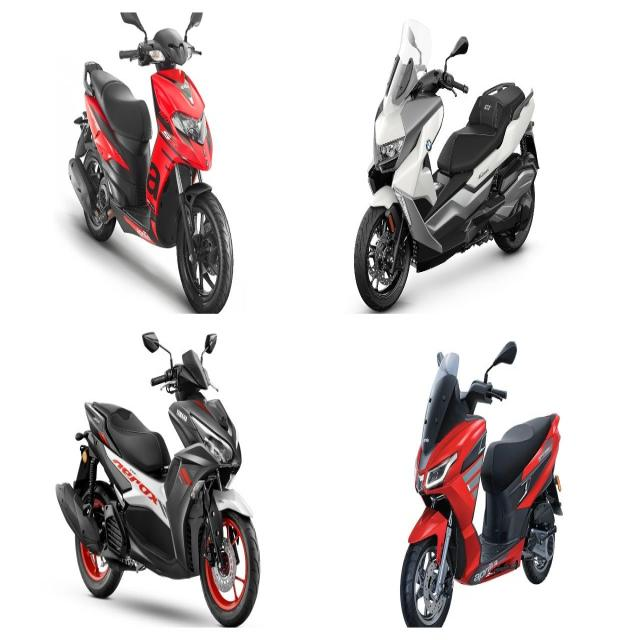motorcycle: (56, 351, 259, 627), (355, 20, 539, 310), (69, 13, 232, 312), (400, 342, 561, 627)
